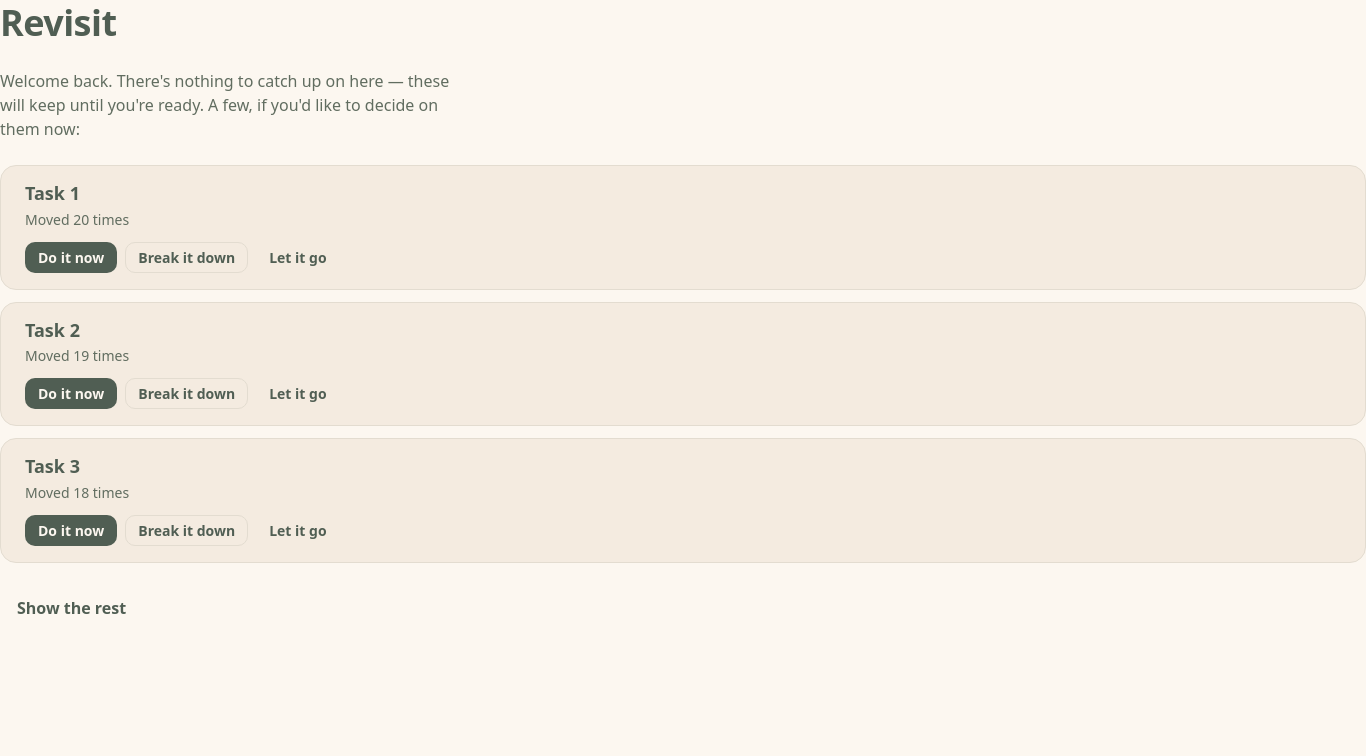
Test: RevisitRoute: cold (away 3+ days) › welcomes back, shows a few rather than the whole list, and no count
The image size is (1366, 756).
Expected: the text "Welcome back" is shown, [0,70,449,140]
Expected: the number of list items is 3, [0,165,1365,290]; [0,302,1365,426]; [0,438,1365,562]
Click the button "Show the rest" at [72, 608], box [0,586,143,628]
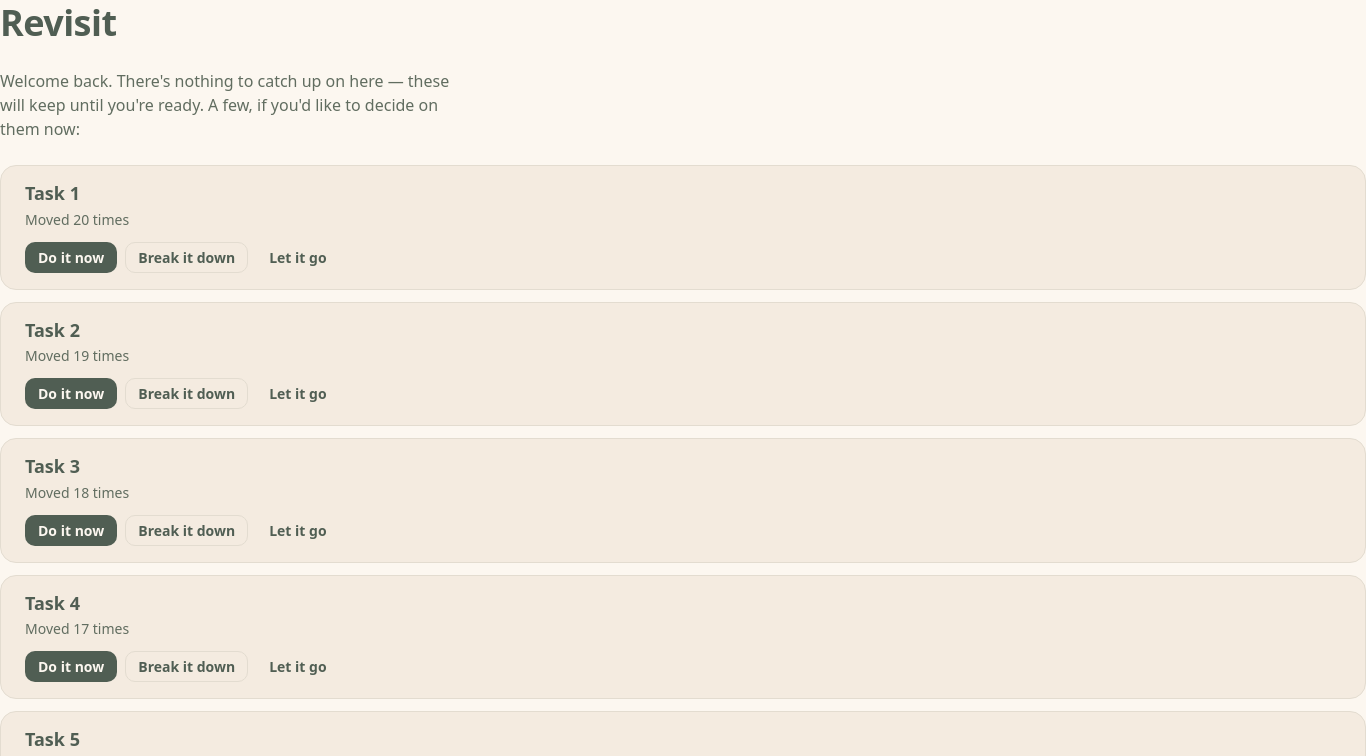
Now the number of list items is 6
